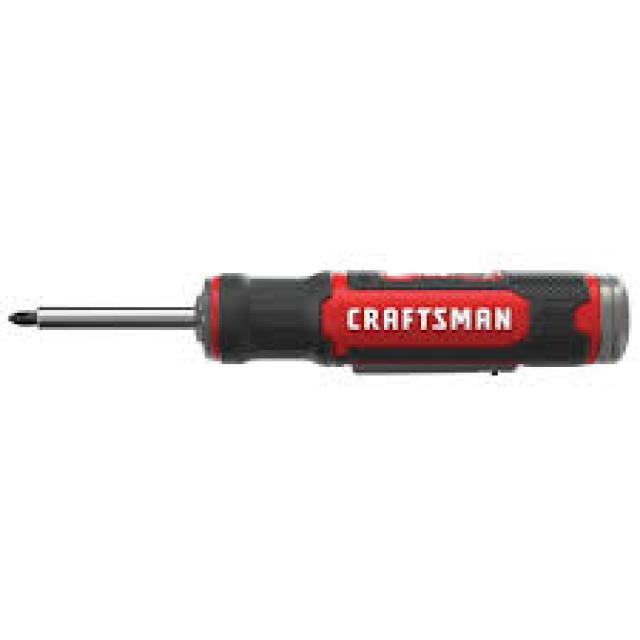screw driver: (0, 238, 640, 404)
